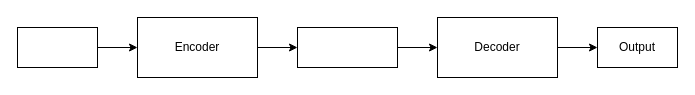
Image size: 695x95. Some labels were removed from this diagram. Here are the shapes that lost their labels. From the top down, the box of each, then its label:
(16, 26, 98, 68): Input
(296, 26, 398, 68): interne Repräsentation
